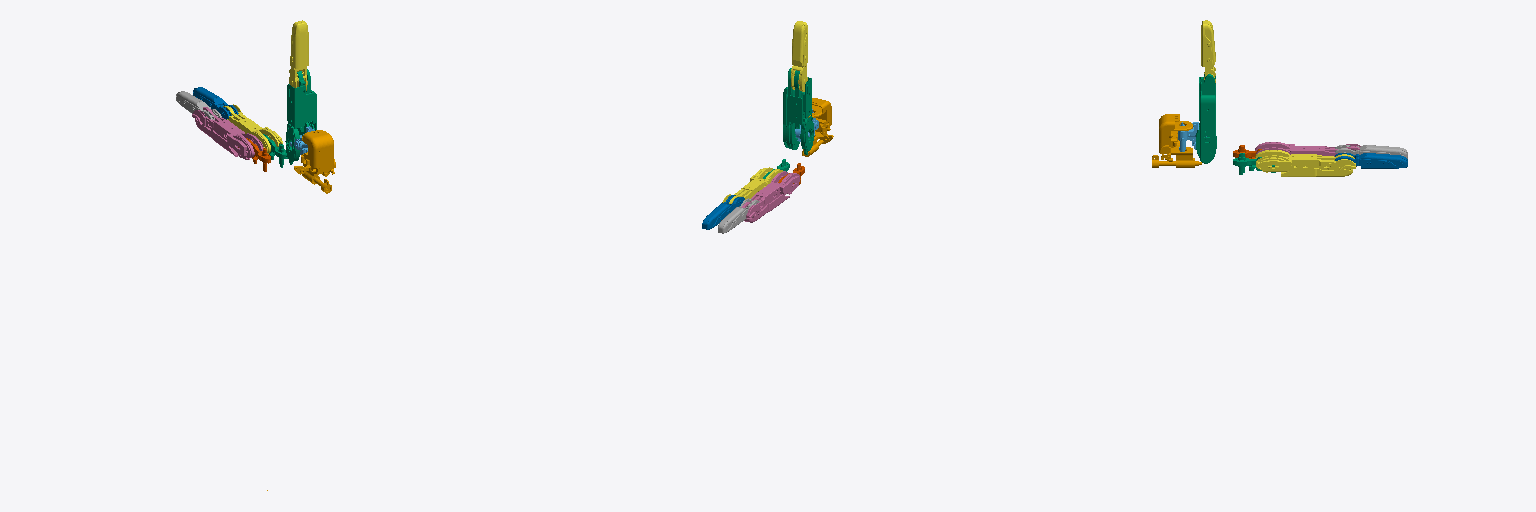
robot.urdf — hand_robot:
<?xml version="1.0" ?>

<robot name="hand_robot">

  <link name="base_link">
    <visual>
      <origin rpy="0 0 0" xyz="0 0 -0.5"/>
      <geometry>
        <box size="0.001 0.001 0.001"/>
      </geometry>
    </visual>
    <collision>
      <origin rpy="0 0 0" xyz="0 0 -0.5"/>
      <geometry>
        <box size="0.001 0.001 0.001"/>
      </geometry>
    </collision>
    <inertial>
      <mass value="1.0"/>
      <inertia ixx="0.6" ixy="0.0" ixz="0.0" iyy="0.6" iyz="0.0" izz="0.6"/>
    </inertial>
  </link>
  <joint name="hand_joint" type="fixed">
    <origin rpy="0 0 -1.57" xyz="0 -0.1 -0.05"/>
    <parent link="base_link"/>
    <child link="hand_base_link"/>
  </joint>

  <!-- Base link -->
  <link name="hand_base_link">
    <visual>
      <origin rpy="0 0 0" xyz="0 0 0"/>
      <geometry>
        <mesh filename="package://wbr_description/meshes/hand/R_hand.STL" scale="0.001 0.001 0.001"/>
      </geometry>
      <material name="black">
        <color rgba="0.7 0.7 0.7 1"/>
      </material>
    </visual>
    <collision>
      <origin rpy="0 0 0" xyz="0 0 0"/>
      <geometry>
        <mesh filename="package://wbr_description/meshes/hand/R_hand.stl" scale="0.001 0.001 0.001"/>
      </geometry>
    </collision>
    <inertial>
      <origin rpy="0 0 0" xyz="0 0 0"/>
      <mass value="0.25"/>
      <inertia ixx="1" ixy="0" ixz="0" iyy="1" iyz="0" izz="1"/>
    </inertial>
  </link>

  <!-- Index finger -->
  <link name="index_finger_1">
    <visual>
      <origin rpy="0 0 0" xyz="0 0 0"/>
      <geometry>
        <mesh filename="package://wbr_description/meshes/hand/R_first_finger_F3.STL" scale="0.002 0.001 0.001"/>
      </geometry>
    </visual>
    <collision>
      <origin rpy="0 0 0" xyz="0 0 0"/>
      <geometry>
        <mesh filename="package://wbr_description/meshes/hand/R_first_finger_F3.stl" scale="0.002 0.001 0.001"/>
      </geometry>
    </collision>
    <inertial>
      <origin rpy="0 0 0" xyz="0 0 0"/>
      <mass value="0.05"/>
      <inertia ixx="1" ixy="0" ixz="0" iyy="1" iyz="0" izz="1"/>
    </inertial>
  </link>

  <joint name="index_joint_1" type="revolute">
    <parent link="hand_base_link"/>
    <child link="index_finger_1"/>
    <origin rpy="3.14 0 0" xyz="-0.076 0.0067 0.0175"/>
    <axis xyz="0 0 1"/>
    <limit lower="-0.174" upper="1.57" effort="1.0" velocity="1.0"/>
  </joint>

  <link name="index_finger_2">
    <visual>
      <origin rpy="0 0 0" xyz="0 0 0"/>
      <geometry>
        <mesh filename="package://wbr_description/meshes/hand/R_first_finger_F2.STL" scale="0.001 0.002 0.001"/>
      </geometry>
    </visual>
    <collision>
      <origin rpy="0 0 0" xyz="0 0 0"/>
      <geometry>
        <mesh filename="package://wbr_description/meshes/hand/R_first_finger_F2.stl" scale="0.001 0.002 0.001"/>
      </geometry>
    </collision>
    <inertial>
      <origin rpy="0 0 0" xyz="0 0 0"/>
      <mass value="0.03"/>
      <inertia ixx="1" ixy="0" ixz="0" iyy="1" iyz="0" izz="1"/>
    </inertial>
  </link>

  <joint name="index_joint_2" type="revolute">
    <parent link="index_finger_1"/>
    <child link="index_finger_2"/>
    <origin rpy="0 1.57 -1.57" xyz="-0.04 0 0"/>
    <axis xyz="0 0 1"/>
    <limit lower="0" upper="1.57" effort="1.0" velocity="1.0"/>
  </joint>

  <link name="index_finger_3">
    <visual>
      <origin rpy="0 0 0" xyz="0 0 0"/>
      <geometry>
        <mesh filename="package://wbr_description/meshes/hand/R_first_finger_F1.STL" scale="0.001 0.002 0.001"/>
      </geometry>
    </visual>
    <collision>
      <origin rpy="0 0 0" xyz="0 0 0"/>
      <geometry>
        <mesh filename="package://wbr_description/meshes/hand/R_first_finger_F1.stl" scale="0.001 0.002 0.001"/>
      </geometry>
    </collision>
    <inertial>
      <origin rpy="0 0 0" xyz="0 0 0"/>
      <mass value="0.03"/>
      <inertia ixx="1" ixy="0" ixz="0" iyy="1" iyz="0" izz="1"/>
    </inertial>
  </link>

  <joint name="index_joint_3" type="revolute">
    <parent link="index_finger_2"/>
    <child link="index_finger_3"/>
    <origin rpy="0 0 0" xyz="0.003 -0.091 0"/>
    <axis xyz="0 0 1"/>
    <limit lower="0" upper="1.57" effort="1.0" velocity="1.0"/>
  </joint>

  <!-- Middle finger -->
  <link name="middle_finger_1">
    <visual>
      <origin rpy="0 0 0" xyz="0 0 0"/>
      <geometry>
        <mesh filename="package://wbr_description/meshes/hand/R_middle_finger_F3.STL" scale="0.002 0.001 0.001"/>
      </geometry>
    </visual>
    <collision>
      <origin rpy="0 0 0" xyz="0 0 0"/>
      <geometry>
        <mesh filename="package://wbr_description/meshes/hand/R_middle_finger_F3.stl" scale="0.002 0.001 0.001"/>
      </geometry>
    </collision>
    <inertial>
      <origin rpy="0 0 0" xyz="0 0 0"/>
      <mass value="0.05"/>
      <inertia ixx="1" ixy="0" ixz="0" iyy="1" iyz="0" izz="1"/>
    </inertial>
  </link>

  <joint name="middle_joint_1" type="revolute">
    <parent link="hand_base_link"/>
    <child link="middle_finger_1"/>
    <origin rpy="3.14 0 0" xyz="-0.076 -0.0173 0.0175"/>
    <axis xyz="0 0 1"/>
    <limit lower="-1.57" upper="0.174" effort="1.0" velocity="1.0"/>
  </joint>

  <link name="middle_finger_2">
    <visual>
      <origin rpy="0 0 0" xyz="0 0 0"/>
      <geometry>
        <mesh filename="package://wbr_description/meshes/hand/R_middle_finger_F2.STL" scale="0.001 0.002 0.001"/>
      </geometry>
    </visual>
    <collision>
      <origin rpy="0 0 0" xyz="0 0 0"/>
      <geometry>
        <mesh filename="package://wbr_description/meshes/hand/R_middle_finger_F2.stl" scale="0.001 0.002 0.001"/>
      </geometry>
    </collision>
    <inertial>
      <origin rpy="0 0 0" xyz="0 0 0"/>
      <mass value="0.03"/>
      <inertia ixx="1" ixy="0" ixz="0" iyy="1" iyz="0" izz="1"/>
    </inertial>
  </link>

  <joint name="middle_joint_2" type="revolute">
    <parent link="middle_finger_1"/>
    <child link="middle_finger_2"/>
    <origin rpy="0 1.57 -1.57" xyz="-0.04 0 0"/>
    <axis xyz="0 0 1"/>
    <limit lower="0" upper="1.57" effort="1.0" velocity="1.0"/>
  </joint>

  <link name="middle_finger_3">
    <visual>
      <origin rpy="0 0 0" xyz="0 0 0"/>
      <geometry>
        <mesh filename="package://wbr_description/meshes/hand/R_middle_finger_F1.STL" scale="0.001 0.002 0.001"/>
      </geometry>
    </visual>
    <collision>
      <origin rpy="0 0 0" xyz="0 0 0"/>
      <geometry>
        <mesh filename="package://wbr_description/meshes/hand/R_middle_finger_F1.stl" scale="0.001 0.002 0.001"/>
      </geometry>
    </collision>
    <inertial>
      <origin rpy="0 0 0" xyz="0 0 0"/>
      <mass value="0.03"/>
      <inertia ixx="1" ixy="0" ixz="0" iyy="1" iyz="0" izz="1"/>
    </inertial>
  </link>

  <joint name="middle_joint_3" type="revolute">
    <parent link="middle_finger_2"/>
    <child link="middle_finger_3"/>
    <origin rpy="0 0 0" xyz="0.003 -0.091 0"/>
    <axis xyz="0 0 1"/>
    <limit lower="0" upper="1.57" effort="1.0" velocity="1.0"/>
  </joint>

  <!-- Thumb -->
  <link name="thumb_1">
    <visual>
      <origin rpy="0 0 3.14" xyz="0 0 0"/>
      <geometry>
        <mesh filename="package://wbr_description/meshes/hand/R_thumb_F4.STL" scale="0.001 0.001 0.001"/>
      </geometry>
    </visual>
    <collision>
      <origin rpy="0 0 3.14" xyz="0 0 0"/>
      <geometry>
        <mesh filename="package://wbr_description/meshes/hand/R_thumb_F4.stl" scale="0.001 0.001 0.001"/>
      </geometry>
    </collision>
    <inertial>
      <origin rpy="0 0 0" xyz="0 0 0"/>
      <mass value="0.05"/>
      <inertia ixx="1" ixy="0" ixz="0" iyy="1" iyz="0" izz="1"/>
    </inertial>
  </link>

  <joint name="thumb_joint_1" type="revolute">
    <parent link="hand_base_link"/>
    <child link="thumb_1"/>
    <origin rpy="-1.57 0 -1.57" xyz="0 0.0067 0.015"/>
    <axis xyz="0 0 1"/>
    <limit lower="-1.57" upper="0" effort="1.0" velocity="1.0"/>
  </joint>

  <link name="thumb_2">
    <visual>
      <origin rpy="0 0 -1.57" xyz="0 0 0"/>
      <geometry>
        <mesh filename="package://wbr_description/meshes/hand/R_thumb_F3.STL" scale="0.001 0.001 0.001"/>
      </geometry>
    </visual>
    <collision>
      <origin rpy="0 0 -1.57" xyz="0 0 0"/>
      <geometry>
        <mesh filename="package://wbr_description/meshes/hand/R_thumb_F3.stl" scale="0.001 0.001 0.001"/>
      </geometry>
    </collision>
    <inertial>
      <origin rpy="0 0 0" xyz="0 0 0"/>
      <mass value="0.03"/>
      <inertia ixx="1" ixy="0" ixz="0" iyy="1" iyz="0" izz="1"/>
    </inertial>
  </link>

  <joint name="thumb_joint_2" type="revolute">
    <parent link="thumb_1"/>
    <child link="thumb_2"/>
    <origin rpy="0 1.57 -1.57" xyz="0 -0.03575 0"/>
    <axis xyz="0 0 1"/>
    <limit lower="-1.57" upper="1.57" effort="1.0" velocity="1.0"/>
  </joint>

  <link name="thumb_3">
    <visual>
      <origin rpy="0 0 0" xyz="0 0 0"/>
      <geometry>
        <mesh filename="package://wbr_description/meshes/hand/R_thumb_F2.STL" scale="0.001 0.002 0.001"/>
      </geometry>
    </visual>
    <collision>
      <origin rpy="0 0 0" xyz="0 0 0"/>
      <geometry>
        <mesh filename="package://wbr_description/meshes/hand/R_thumb_F2.stl" scale="0.001 0.002 0.001"/>
      </geometry>
    </collision>
    <inertial>
      <origin rpy="0 0 0" xyz="0 0 0"/>
      <mass value="0.03"/>
      <inertia ixx="1" ixy="0" ixz="0" iyy="1" iyz="0" izz="1"/>
    </inertial>
  </link>

  <joint name="thumb_joint_3" type="revolute">
    <parent link="thumb_2"/>
    <child link="thumb_3"/>
    <origin rpy="-1.57 0 0" xyz="0.03 0 0"/>
    <axis xyz="0 0 1"/>
    <limit lower="0" upper="1.57" effort="1.0" velocity="1.0"/>
  </joint>

  <link name="thumb_4">
    <visual>
      <origin rpy="0 0 0" xyz="0 0 0"/>
      <geometry>
        <mesh filename="package://wbr_description/meshes/hand/R_thumb_F1.STL" scale="0.001 0.002 0.001"/>
      </geometry>
    </visual>
    <collision>
      <origin rpy="0 0 0" xyz="0 0 0"/>
      <geometry>
        <mesh filename="package://wbr_description/meshes/hand/R_thumb_F1.stl" scale="0.001 0.002 0.001"/>
      </geometry>
    </collision>
    <inertial>
      <origin rpy="0 0 0" xyz="0 0 0"/>
      <mass value="0.03"/>
      <inertia ixx="1" ixy="0" ixz="0" iyy="1" iyz="0" izz="1"/>
    </inertial>
  </link>

  <joint name="thumb_joint_4" type="revolute">
    <parent link="thumb_3"/>
    <child link="thumb_4"/>
    <origin rpy="0 0 0" xyz="0.0045 -0.08 0"/>
    <axis xyz="0 0 1"/>
    <limit lower="0" upper="1.57" effort="1.0" velocity="1.0"/>
  </joint>
</robot>

--- Render facts (derived) ---
Views: 3 orthographic renders of the robot side by side, from view 1: azimuth 30°, elevation 25°; view 2: azimuth 150°, elevation 25°; view 3: azimuth 270°, elevation 25°.
Model hand_robot with 12 links and 11 joints (10 revolute, 1 fixed), rooted at base_link, posed all joints at 0.
Visible links, largest first — view 1: thumb_3, thumb_1, middle_finger_2, thumb_4, index_finger_2, index_finger_3; view 2: thumb_3, middle_finger_2, thumb_4, thumb_1, index_finger_2, index_finger_3, middle_finger_3; view 3: index_finger_2, thumb_3, thumb_1, index_finger_3, middle_finger_2, thumb_4, middle_finger_3.
Boxes of the visible links, x1,y1,x2,y2 form: thumb_3: (285, 69, 316, 164); thumb_1: (294, 130, 335, 193); middle_finger_2: (192, 107, 263, 159); thumb_4: (289, 20, 308, 90); index_finger_2: (223, 104, 282, 153); index_finger_3: (193, 87, 238, 119); thumb_3: (783, 68, 813, 154); middle_finger_2: (742, 171, 799, 222); thumb_4: (791, 21, 807, 91); thumb_1: (802, 98, 833, 156); index_finger_2: (722, 167, 782, 203); index_finger_3: (702, 195, 744, 229); middle_finger_3: (718, 198, 759, 233); index_finger_2: (1255, 150, 1355, 176); thumb_3: (1196, 74, 1216, 163); thumb_1: (1152, 114, 1201, 167); index_finger_3: (1335, 153, 1407, 168); middle_finger_2: (1255, 142, 1360, 166); thumb_4: (1201, 20, 1215, 82); middle_finger_3: (1335, 145, 1407, 158).
Size in the robot's own frame: 0.0615 by 0.3265 by 0.6648 metres.
Meshes: 11 distinct files referenced, 10 mesh visuals loaded (10 binary STL); not drawn: 1 (reference not matched to a file when rendering).
